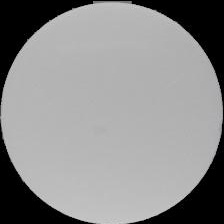50268-536: (0, 0, 224, 224)
